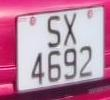2: (77, 42, 96, 82)
4: (28, 48, 47, 92)
6: (46, 48, 65, 88)
9: (61, 45, 80, 85)
S: (44, 13, 63, 55)
X: (62, 12, 80, 51)
